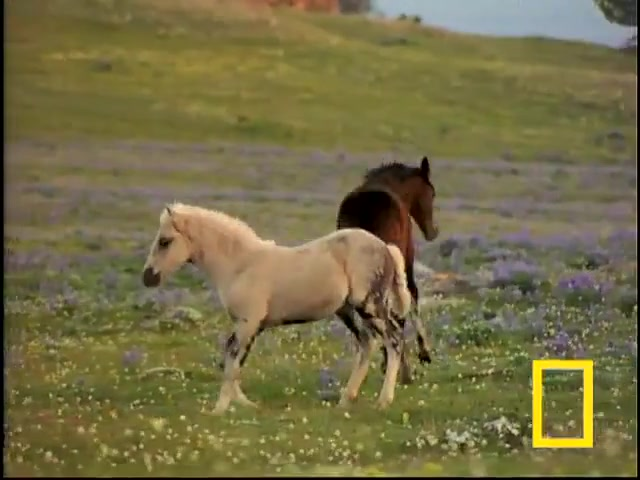horse: (142, 200, 416, 416)
